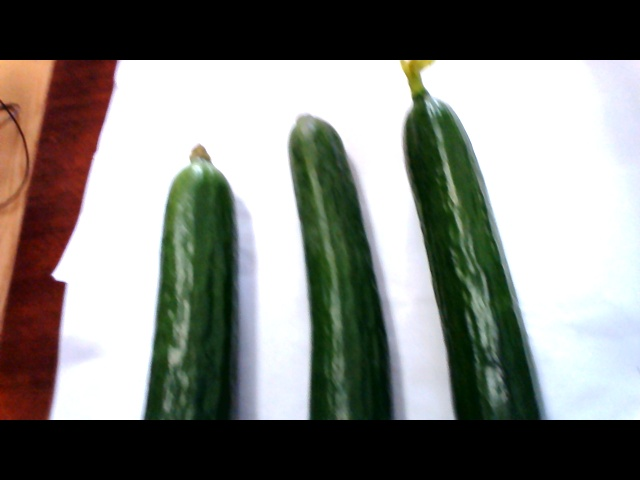cucumber: (403, 68, 558, 408), (281, 122, 402, 426), (134, 150, 254, 421)
